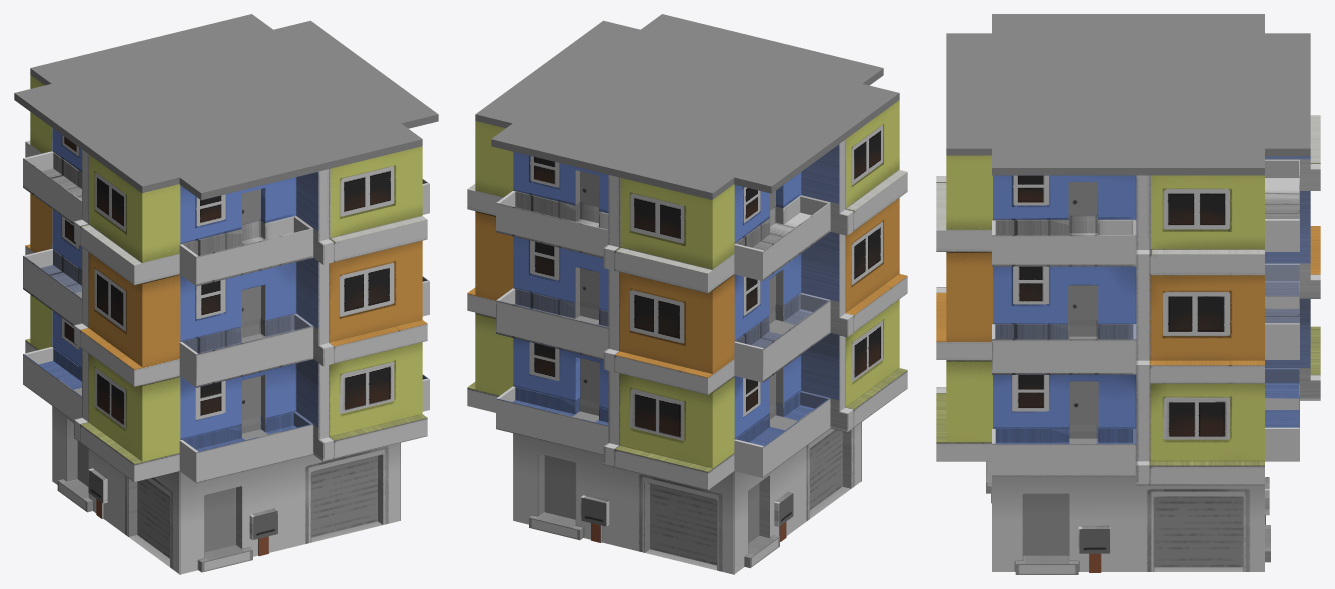
File: predio3.fbx
The picture shows the model from 3 angles, left to right: view 1: azimuth 30°, elevation 25°; view 2: azimuth 150°, elevation 25°; view 3: azimuth 270°, elevation 25°; orthographic projection. The views are drawn at different scales.
Parts seen in each view (by area): view 1: predio3_Texture; view 2: predio3_Texture; view 3: predio3_Texture.
Boxes of the visible parts, <box> form: predio3_Texture: <box>14,14,438,574</box>; predio3_Texture: <box>467,14,907,574</box>; predio3_Texture: <box>936,14,1320,574</box>.
Size of the model in its own units: 141 by 172 by 141.
